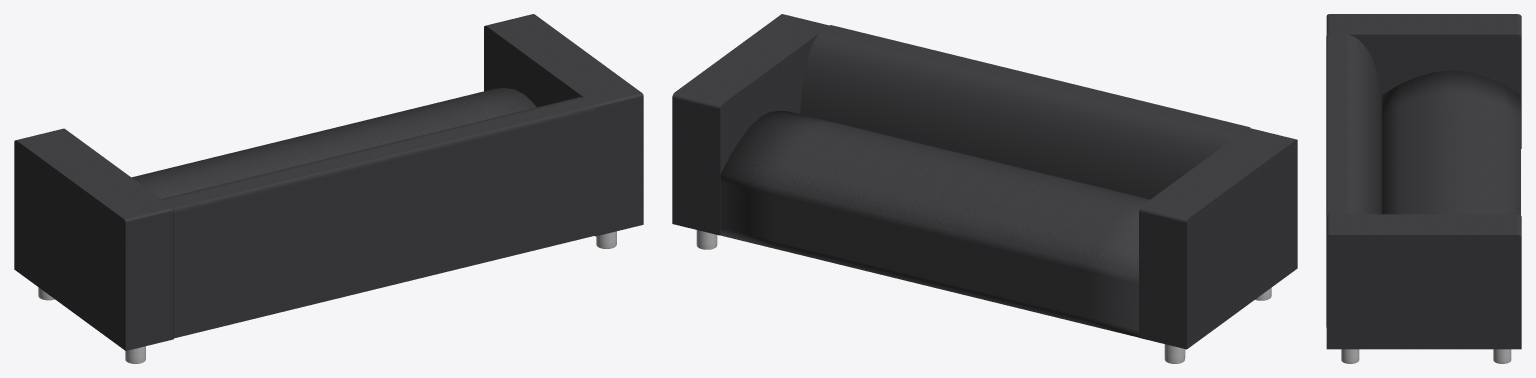
File: KLIPPAN КЛИППАН.obj
The picture shows the model from 3 angles, left to right: view 1: azimuth 30°, elevation 25°; view 2: azimuth 150°, elevation 25°; view 3: azimuth 270°, elevation 25°; orthographic projection. The views are drawn at different scales.
Parts seen in each view (by area): view 1: Куб.002, Куб.003_Куб.004, Куб.001, Цилиндр.001_Цилиндр.002; view 2: Куб.001, Куб.003_Куб.004, Куб.002, Цилиндр.001_Цилиндр.002; view 3: Куб.003_Куб.004, Куб.001, Куб.002, Цилиндр.001_Цилиндр.002.
Part boxes in pixels (left/top/right/bottom): Куб.002: left=161, top=97, right=595, bottom=338; Куб.003_Куб.004: left=14, top=14, right=643, bottom=350; Куб.001: left=131, top=88, right=536, bottom=198; Цилиндр.001_Цилиндр.002: left=38, top=231, right=616, bottom=363; Куб.001: left=720, top=110, right=1149, bottom=337; Куб.003_Куб.004: left=672, top=14, right=1297, bottom=349; Куб.002: left=800, top=25, right=1250, bottom=199; Цилиндр.001_Цилиндр.002: left=696, top=230, right=1271, bottom=363; Куб.003_Куб.004: left=1326, top=14, right=1521, bottom=349; Куб.001: left=1382, top=70, right=1520, bottom=215; Куб.002: left=1326, top=34, right=1381, bottom=327; Цилиндр.001_Цилиндр.002: left=1341, top=349, right=1511, bottom=363.
Bounding box in the file's own units: 4.42 × 1.26 × 1.65.
